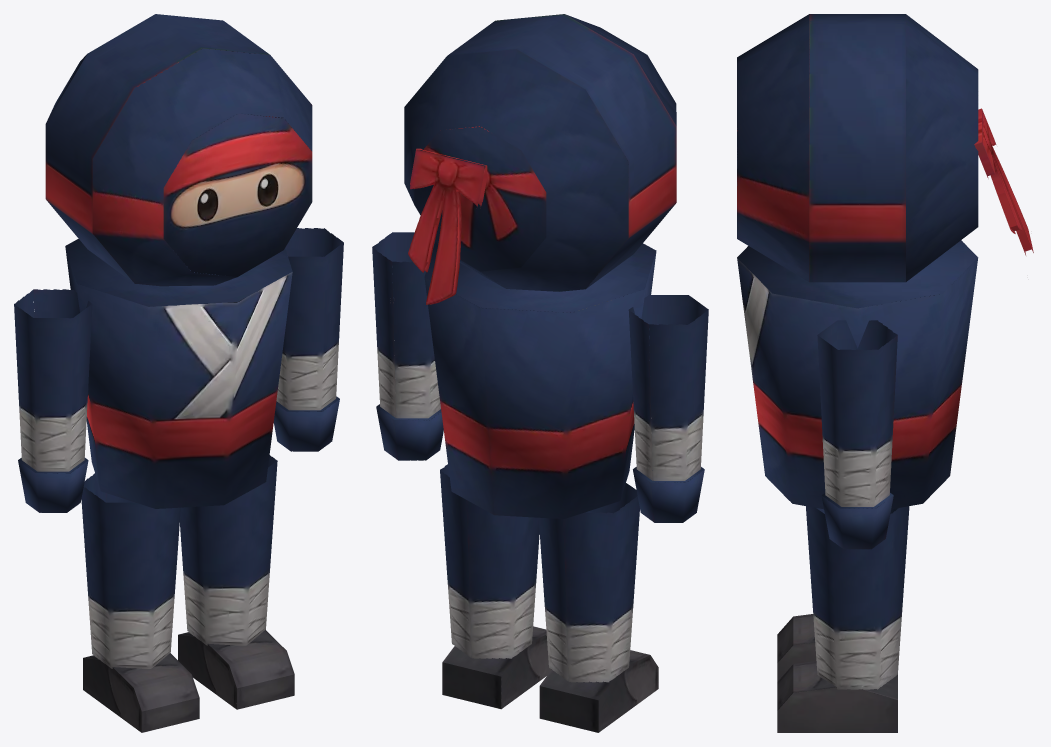
The model's file is ninja.glb.
3 views of the same model, side by side, from view 1: azimuth 30°, elevation 25°; view 2: azimuth 150°, elevation 25°; view 3: azimuth 270°, elevation 25° (orthographic). The views are drawn at different scales.
Parts seen in each view (by area): view 1: GEO-ninja; view 2: GEO-ninja; view 3: GEO-ninja.
Boxes of the visible parts, x1,y1,x2,y2 form: GEO-ninja: [14, 14, 343, 732]; GEO-ninja: [372, 14, 708, 732]; GEO-ninja: [737, 14, 1033, 732].
Size of the model in its own units: 0.4566 by 0.92 by 0.373.
1 material, 1 textured.
